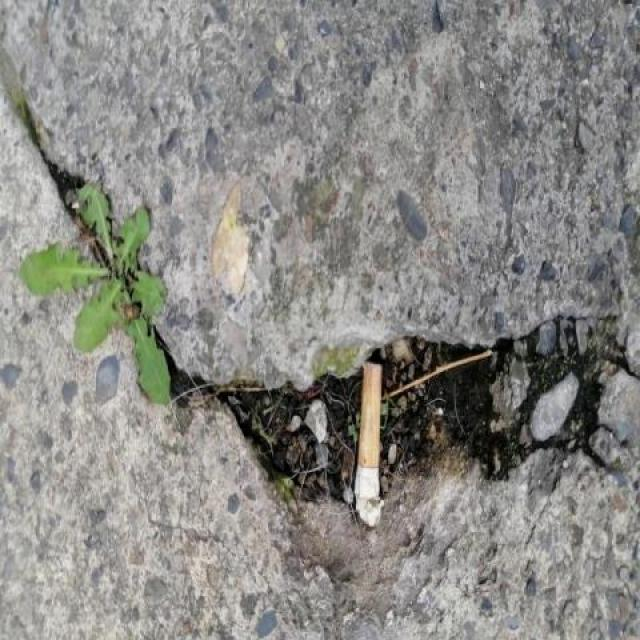non-organic waste: (346, 356, 394, 504)
